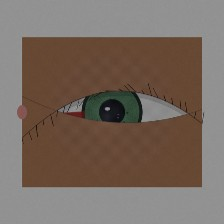hemorrhage_spot: (43, 90, 119, 150)
